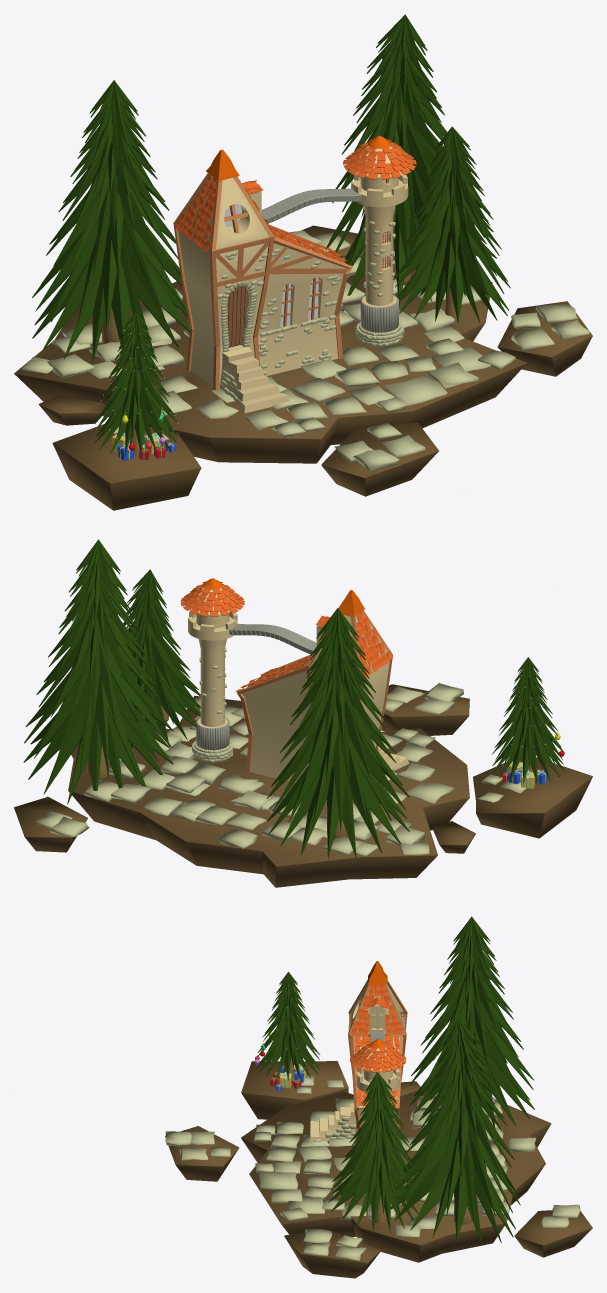
Rendered from tnak34.fbx.
3 renders of one model, top to bottom at view 1: azimuth 30°, elevation 25°; view 2: azimuth 150°, elevation 25°; view 3: azimuth 270°, elevation 25°, orthographic. The views are drawn at different scales.
Parts seen in each view (by area): view 1: tree, ground, tomet, homwall.002, woodhome.002, Cube.786, homwall.001, brick, homwall, kamurj, towerstone.001, door (+3 smaller); view 2: tree, ground, tomet, homwall.002, homwall.001, Cube.786, woodhome.002, kamurj, towerstone.001, brick, roof, barck; view 3: tree, ground, tomet, Cube.786, woodhome.002, homwall, homwall.002, homwall.001, roof.
Boxes of the visible parts, x1,y1,x2,y2 form: tree: (32,14,510,456); ground: (14,225,592,510); tomet: (22,230,589,471); homwall.002: (178,175,345,388); woodhome.002: (173,173,391,390); Cube.786: (174,139,416,263); homwall.001: (347,146,412,307); brick: (217,221,404,401); homwall: (220,347,289,413); kamurj: (261,188,361,223); towerstone.001: (360,295,398,332); door: (227,286,247,347); tree: (23,539,564,858); ground: (14,684,592,887); tomet: (36,683,525,856); homwall.002: (242,614,389,782); homwall.001: (185,587,240,728); Cube.786: (180,581,393,691); woodhome.002: (237,610,392,800); kamurj: (229,623,316,654); towerstone.001: (196,717,229,750); brick: (192,648,393,775); roof: (202,578,364,617); barck: (87,714,532,840); tree: (257,916,534,1244); ground: (165,1061,592,1278); tomet: (165,1075,580,1262); Cube.786: (350,984,406,1110); woodhome.002: (348,979,407,1142); homwall: (310,1103,356,1141); homwall.002: (349,983,405,1139); homwall.001: (353,1047,402,1102); roof: (368,961,387,1048).
Size of the model in its own units: 25.93 by 14.01 by 31.82.
